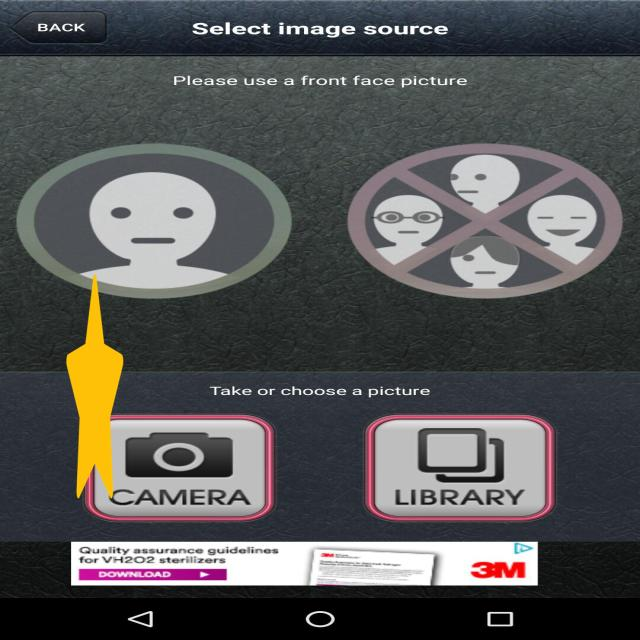forced continuity: (66, 274, 124, 499)
